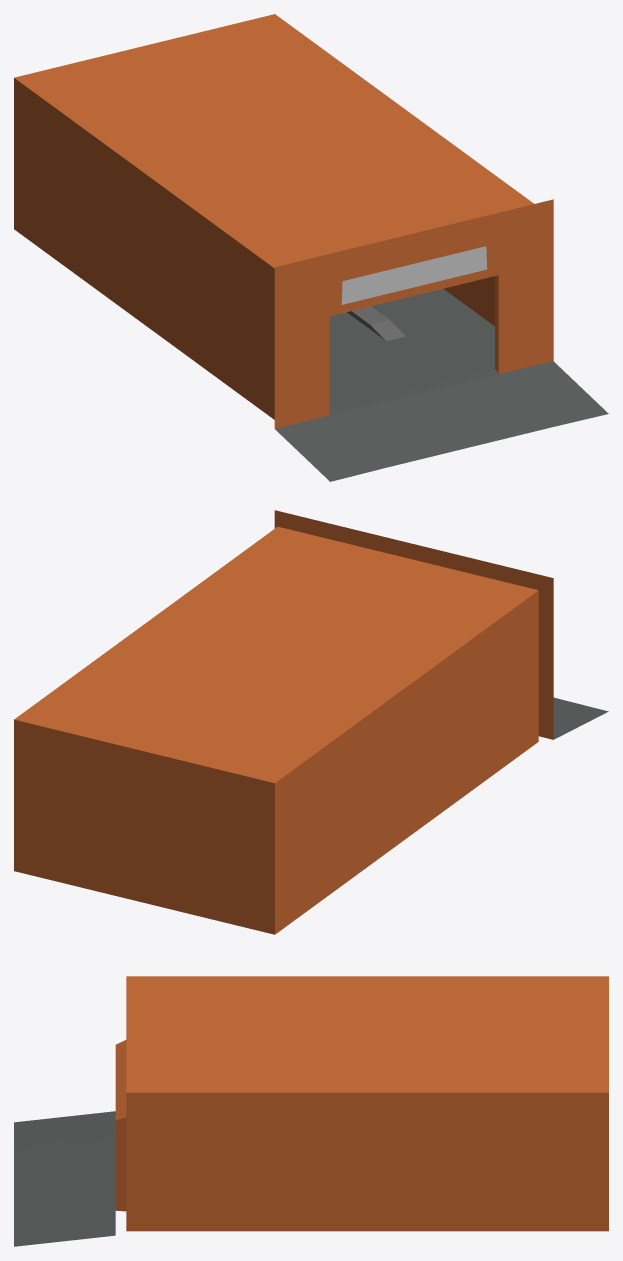
Rendered from garage.dae.
3 renders of one model, top to bottom at view 1: azimuth 30°, elevation 25°; view 2: azimuth 150°, elevation 25°; view 3: azimuth 270°, elevation 25°, orthographic. The views are drawn at different scales.
Parts seen in each view (by area): view 1: Cube, Cube_002; view 2: Cube; view 3: Cube.
Boxes of the visible parts, <box> form: Cube: <box>14,14,608,481</box>; Cube_002: <box>341,246,487,304</box>; Cube: <box>14,510,608,934</box>; Cube: <box>14,976,608,1246</box>.
Bounding box in the file's own units: 5.73 × 11.59 × 3.42.
